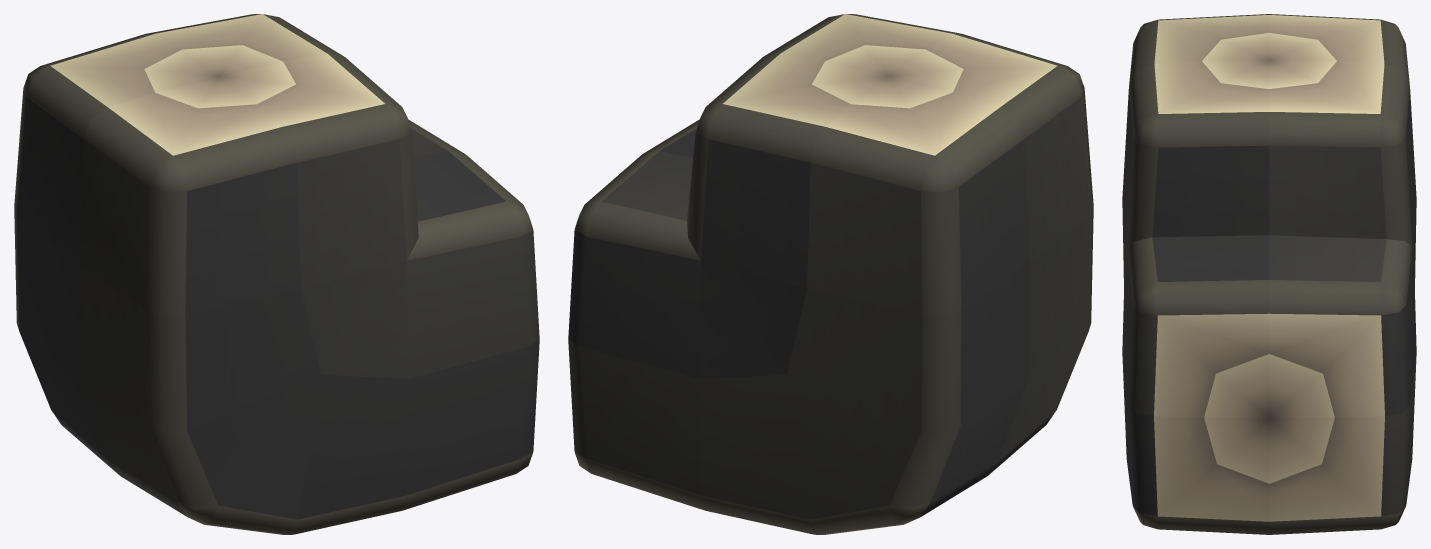
File: ColdWood_Branch_Corner.fbx
3 renders of one model, left to right at view 1: azimuth 30°, elevation 25°; view 2: azimuth 150°, elevation 25°; view 3: azimuth 270°, elevation 25°, orthographic. The views are drawn at different scales.
Visible parts, largest first — view 1: ColdWood_Branch_Corner_LOD0; view 2: ColdWood_Branch_Corner_LOD0; view 3: ColdWood_Branch_Corner_LOD0.
Part boxes in pixels (x1,y1,x2,y2): ColdWood_Branch_Corner_LOD0: (14, 14, 539, 534); ColdWood_Branch_Corner_LOD0: (568, 14, 1093, 534); ColdWood_Branch_Corner_LOD0: (1122, 14, 1416, 534).
Size of what is drawn, in the model's own units: 0.8291 by 0.8301 by 0.5858.
